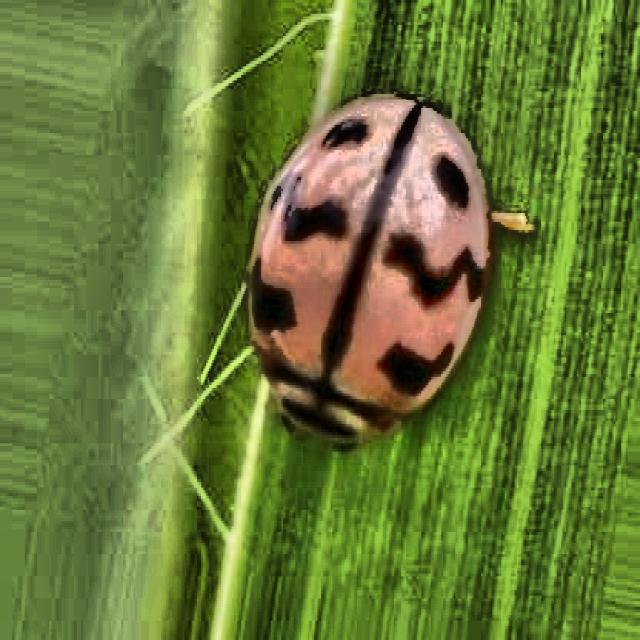Asian-Lady-beetle: (203, 27, 520, 490)
